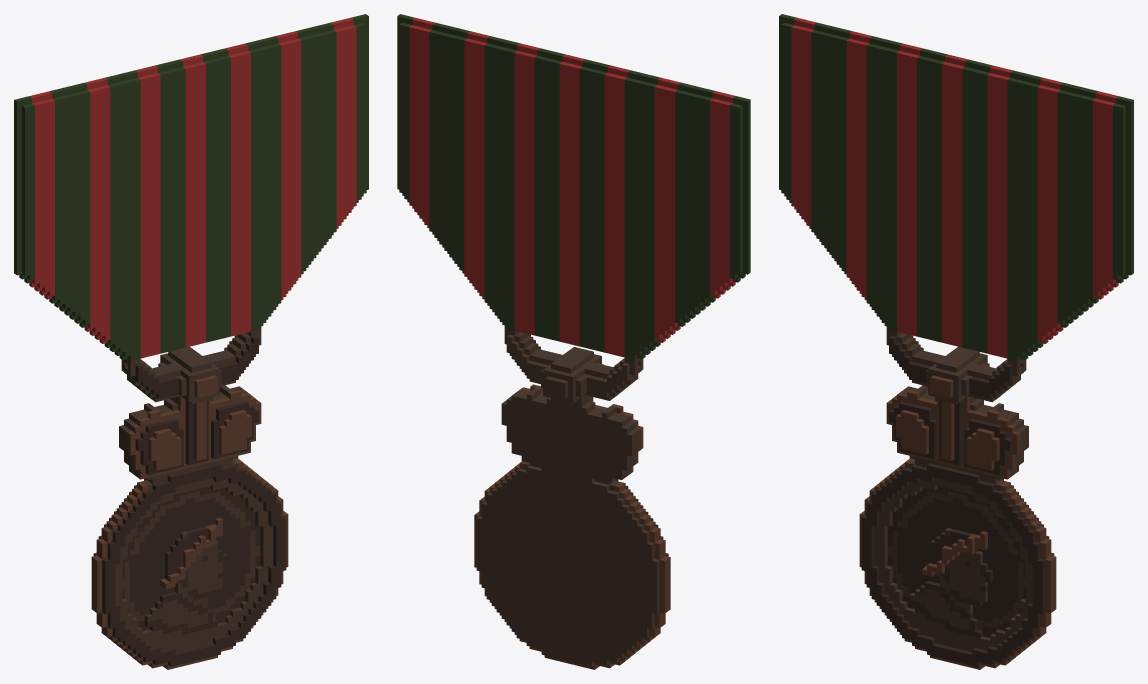
File: médaille 1.obj
3 renders of one model, left to right at view 1: azimuth 30°, elevation 25°; view 2: azimuth 150°, elevation 25°; view 3: azimuth 330°, elevation 25°, orthographic.
Bounding box in the file's own units: 7 × 11.5 × 1.2.
